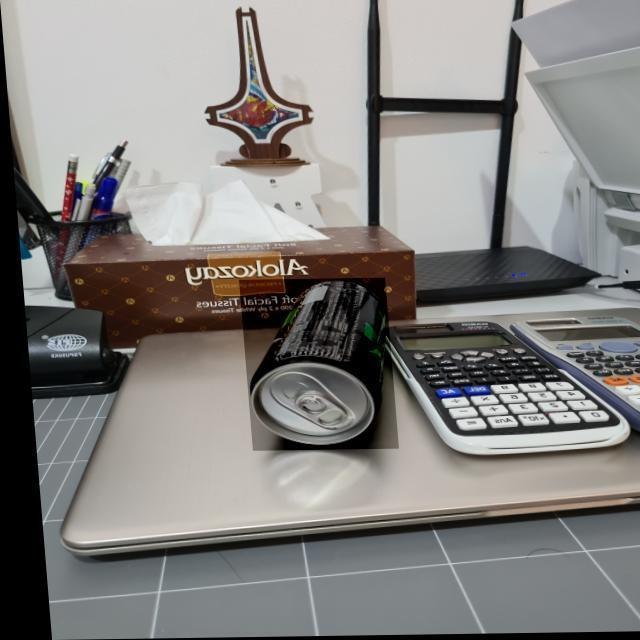trash: (250, 276, 392, 450)
